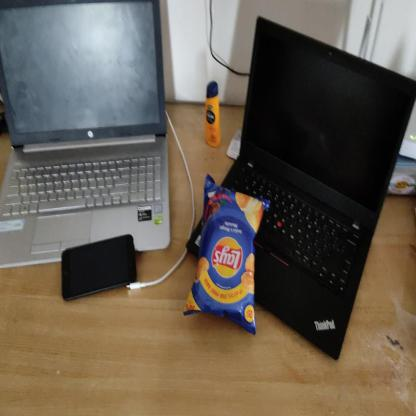indian_magic_masala: (184, 179, 263, 335)
